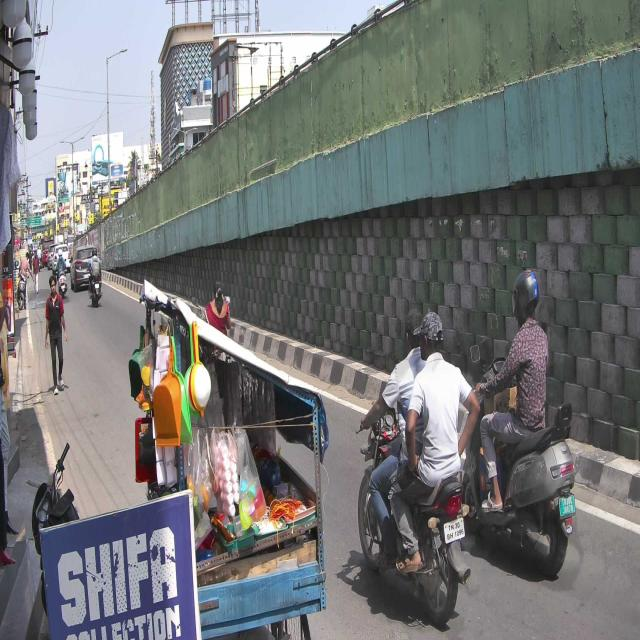double_rider: (354, 304, 466, 622)
single_rider: (478, 271, 576, 580)
